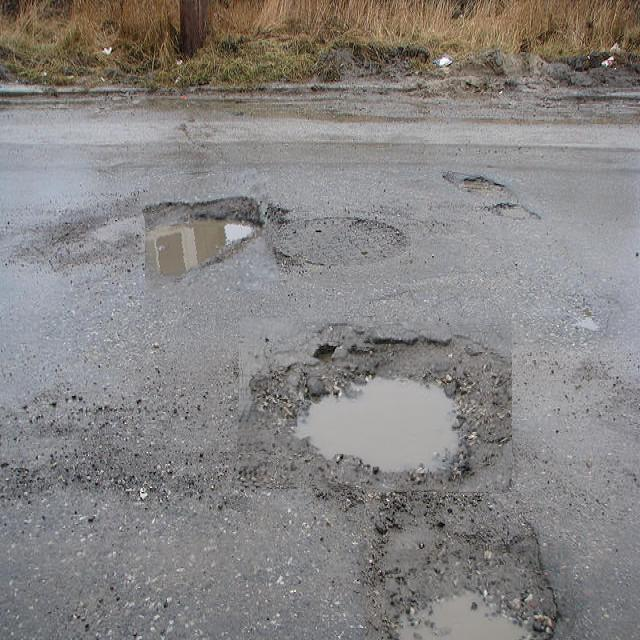Pothole: (238, 319, 512, 492), (385, 545, 575, 640), (145, 174, 275, 300)
